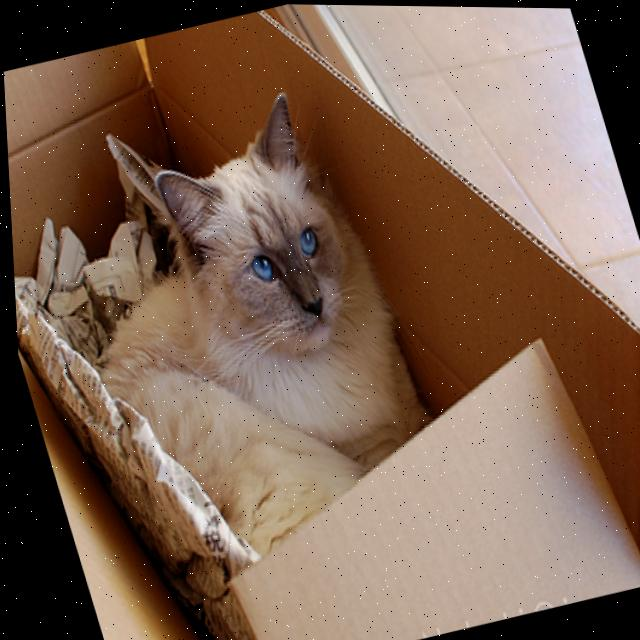Ragdoll: (20, 64, 465, 602)
